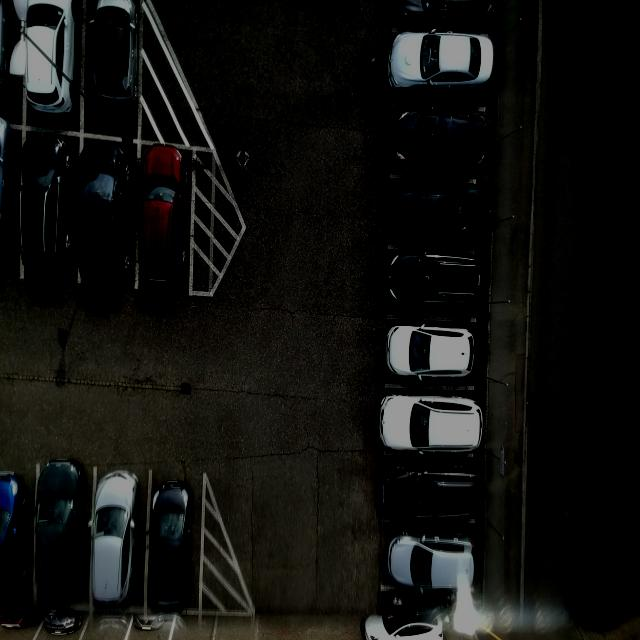car: (78, 143, 133, 296), (19, 132, 72, 283), (137, 138, 190, 287), (35, 457, 86, 601), (386, 31, 495, 97), (147, 472, 199, 610), (90, 467, 140, 609), (21, 1, 78, 125), (387, 112, 488, 177), (380, 466, 487, 527), (381, 252, 492, 310), (376, 395, 484, 454), (88, 1, 144, 107), (384, 533, 481, 593), (395, 184, 495, 240), (385, 325, 478, 381)
